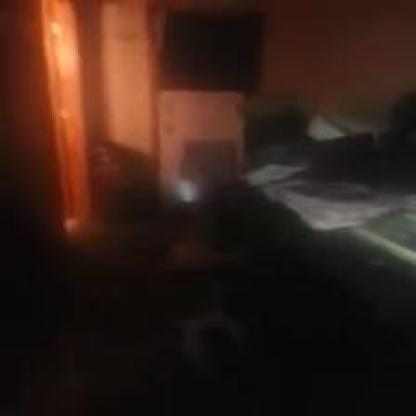other: (35, 17, 92, 224)
